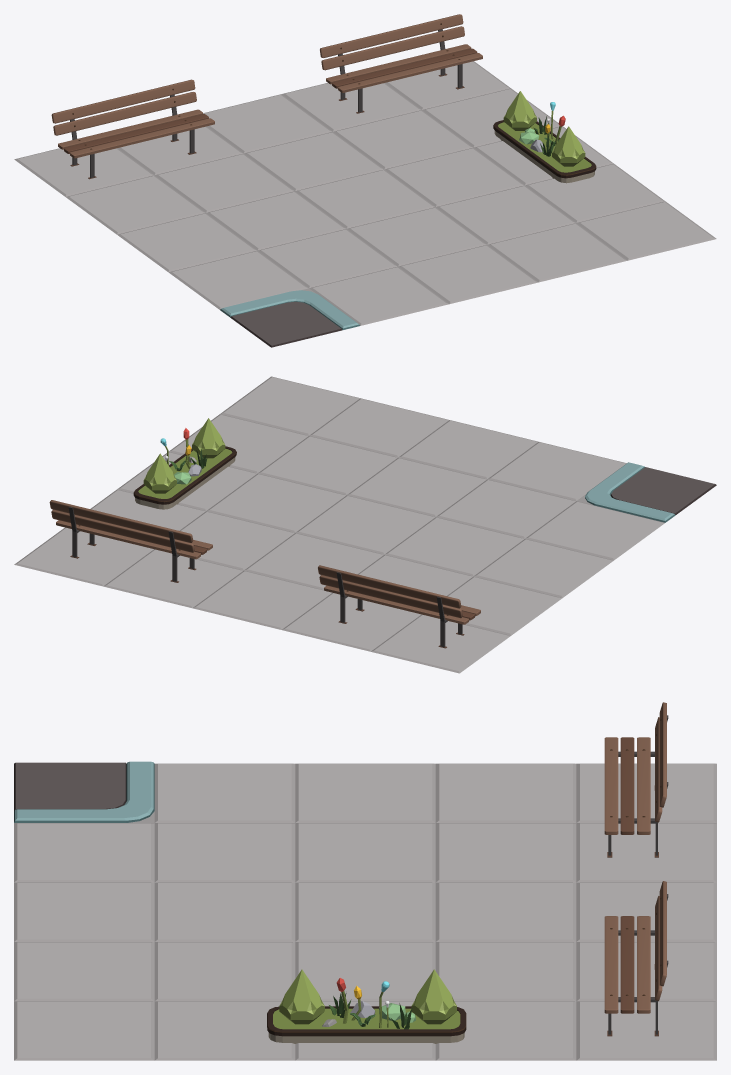
The model's file is OpenFork_A.glb.
The picture shows the model from 3 angles, top to bottom: view 1: azimuth 30°, elevation 25°; view 2: azimuth 150°, elevation 25°; view 3: azimuth 270°, elevation 25°; orthographic projection. The views are drawn at different scales.
Visible parts, largest first — view 1: OpenFork_A, Bench01.018, Bench01.021, Cube.234, Cone.012, Cone.011; view 2: OpenFork_A, Bench01.021, Bench01.018, Cube.234, Cone.011, Cone.012; view 3: OpenFork_A, Bench01.021, Bench01.018, Cube.234, Cone.012, Cone.011.
Part boxes in pixels (<box>): OpenFork_A: <box>14,61,716,347</box>; Bench01.018: <box>51,79,214,179</box>; Bench01.021: <box>320,14,482,113</box>; Cube.234: <box>493,120,596,183</box>; Cone.012: <box>552,126,585,166</box>; Cone.011: <box>503,91,536,130</box>; OpenFork_A: <box>14,376,716,673</box>; Bench01.021: <box>49,500,212,582</box>; Bench01.018: <box>318,565,480,648</box>; Cube.234: <box>133,446,236,509</box>; Cone.011: <box>143,453,176,493</box>; Cone.012: <box>192,418,225,458</box>; OpenFork_A: <box>14,761,716,1060</box>; Bench01.021: <box>604,881,668,1036</box>; Bench01.018: <box>604,702,668,857</box>; Cube.234: <box>267,1006,466,1043</box>; Cone.012: <box>279,969,324,1024</box>; Cone.011: <box>411,969,456,1024</box>.
Size of what is drawn, in the model's own units: 16 by 1.89 by 16.
Materials: 1 (1 with a texture image).
